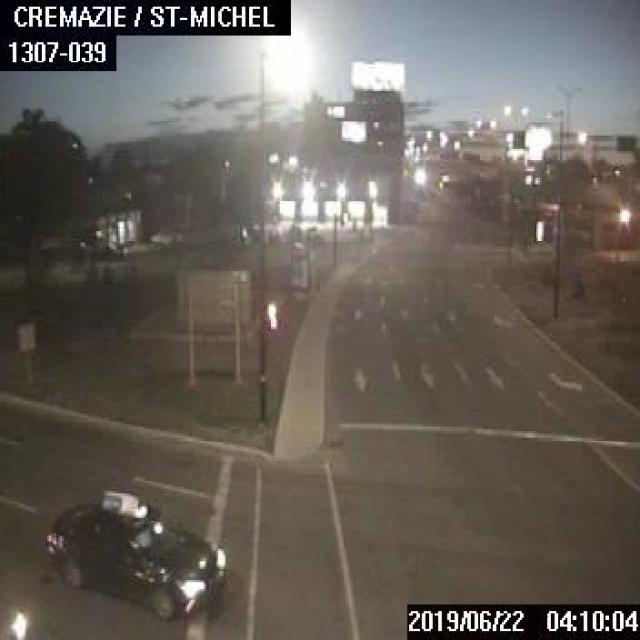vehicle: (40, 487, 225, 622), (0, 591, 33, 638)
